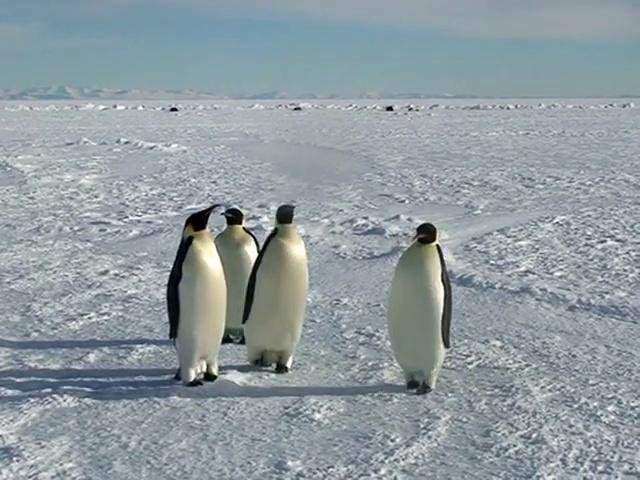animal: (388, 223, 451, 393)
